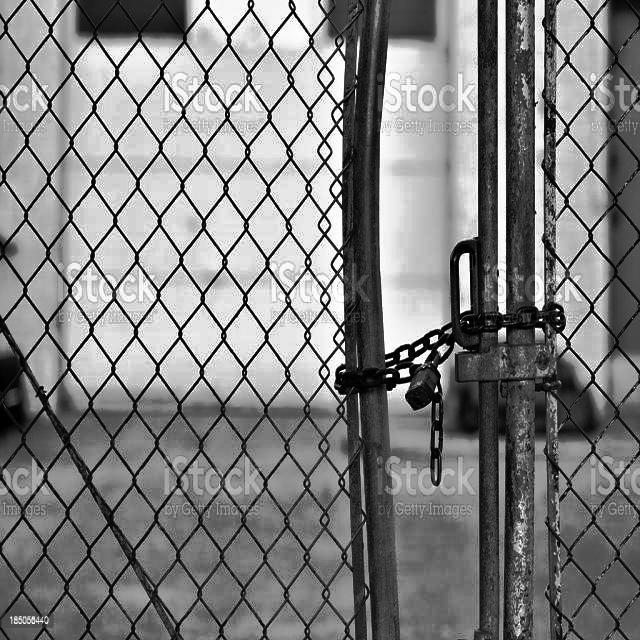fences: (0, 1, 310, 625)
